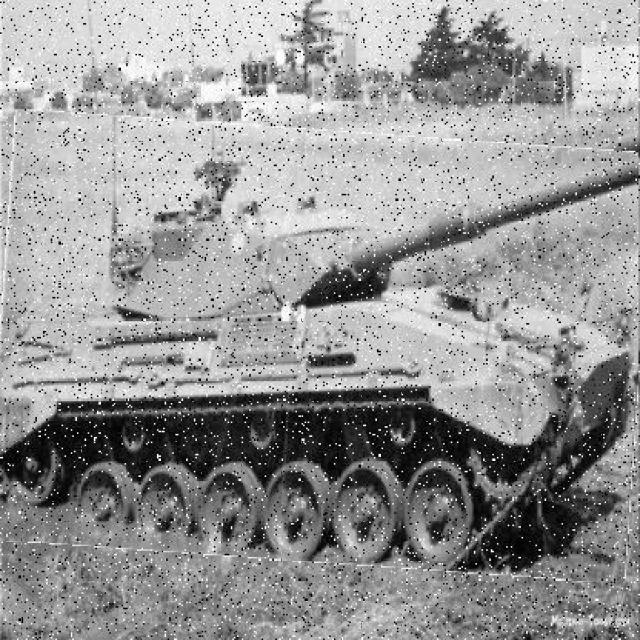Tank: (1, 119, 639, 574)
